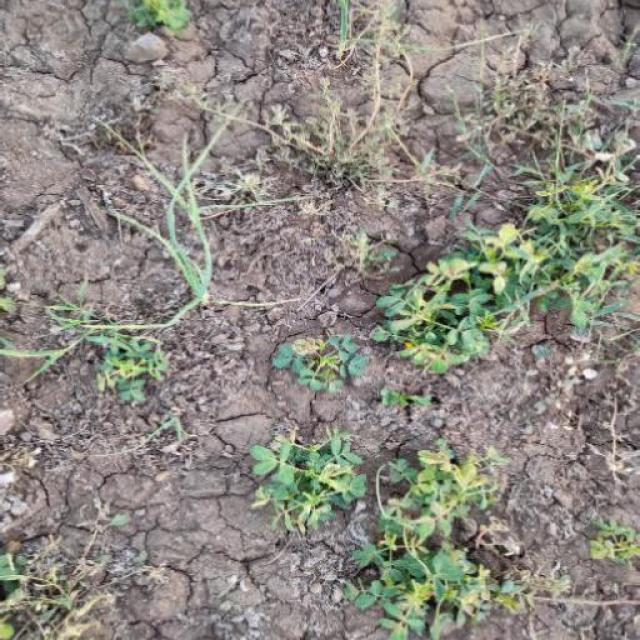weed: (248, 429, 528, 640), (79, 142, 306, 382), (364, 165, 620, 377)
